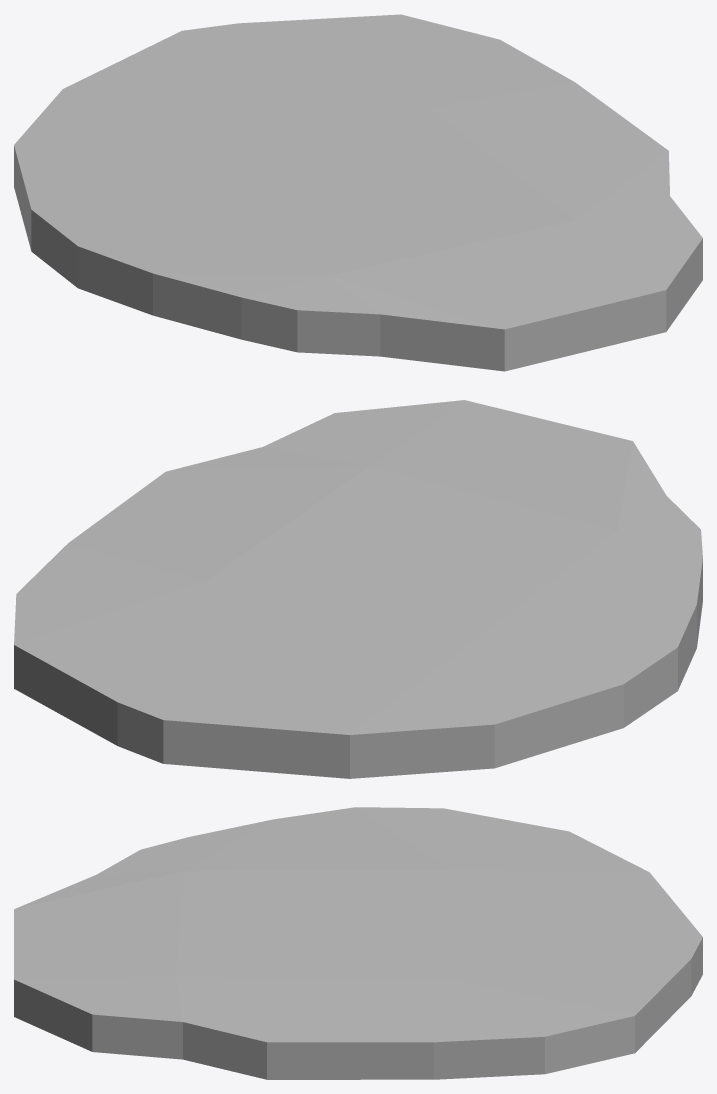
Rendered from flat_1.fbx.
3 views of the same model, one above another, from view 1: azimuth 30°, elevation 25°; view 2: azimuth 150°, elevation 25°; view 3: azimuth 270°, elevation 25° (orthographic). The views are drawn at different scales.
Visible parts, largest first — view 1: Flat Rock 1; view 2: Flat Rock 1; view 3: Flat Rock 1.
Part boxes in pixels (x1,y1,x2,y2): Flat Rock 1: [14, 14, 702, 371]; Flat Rock 1: [14, 400, 702, 778]; Flat Rock 1: [14, 807, 702, 1079].
Size of what is drawn, in the model's own units: 246 by 19.81 by 305.
Materials: 1 (1 with a texture image).
